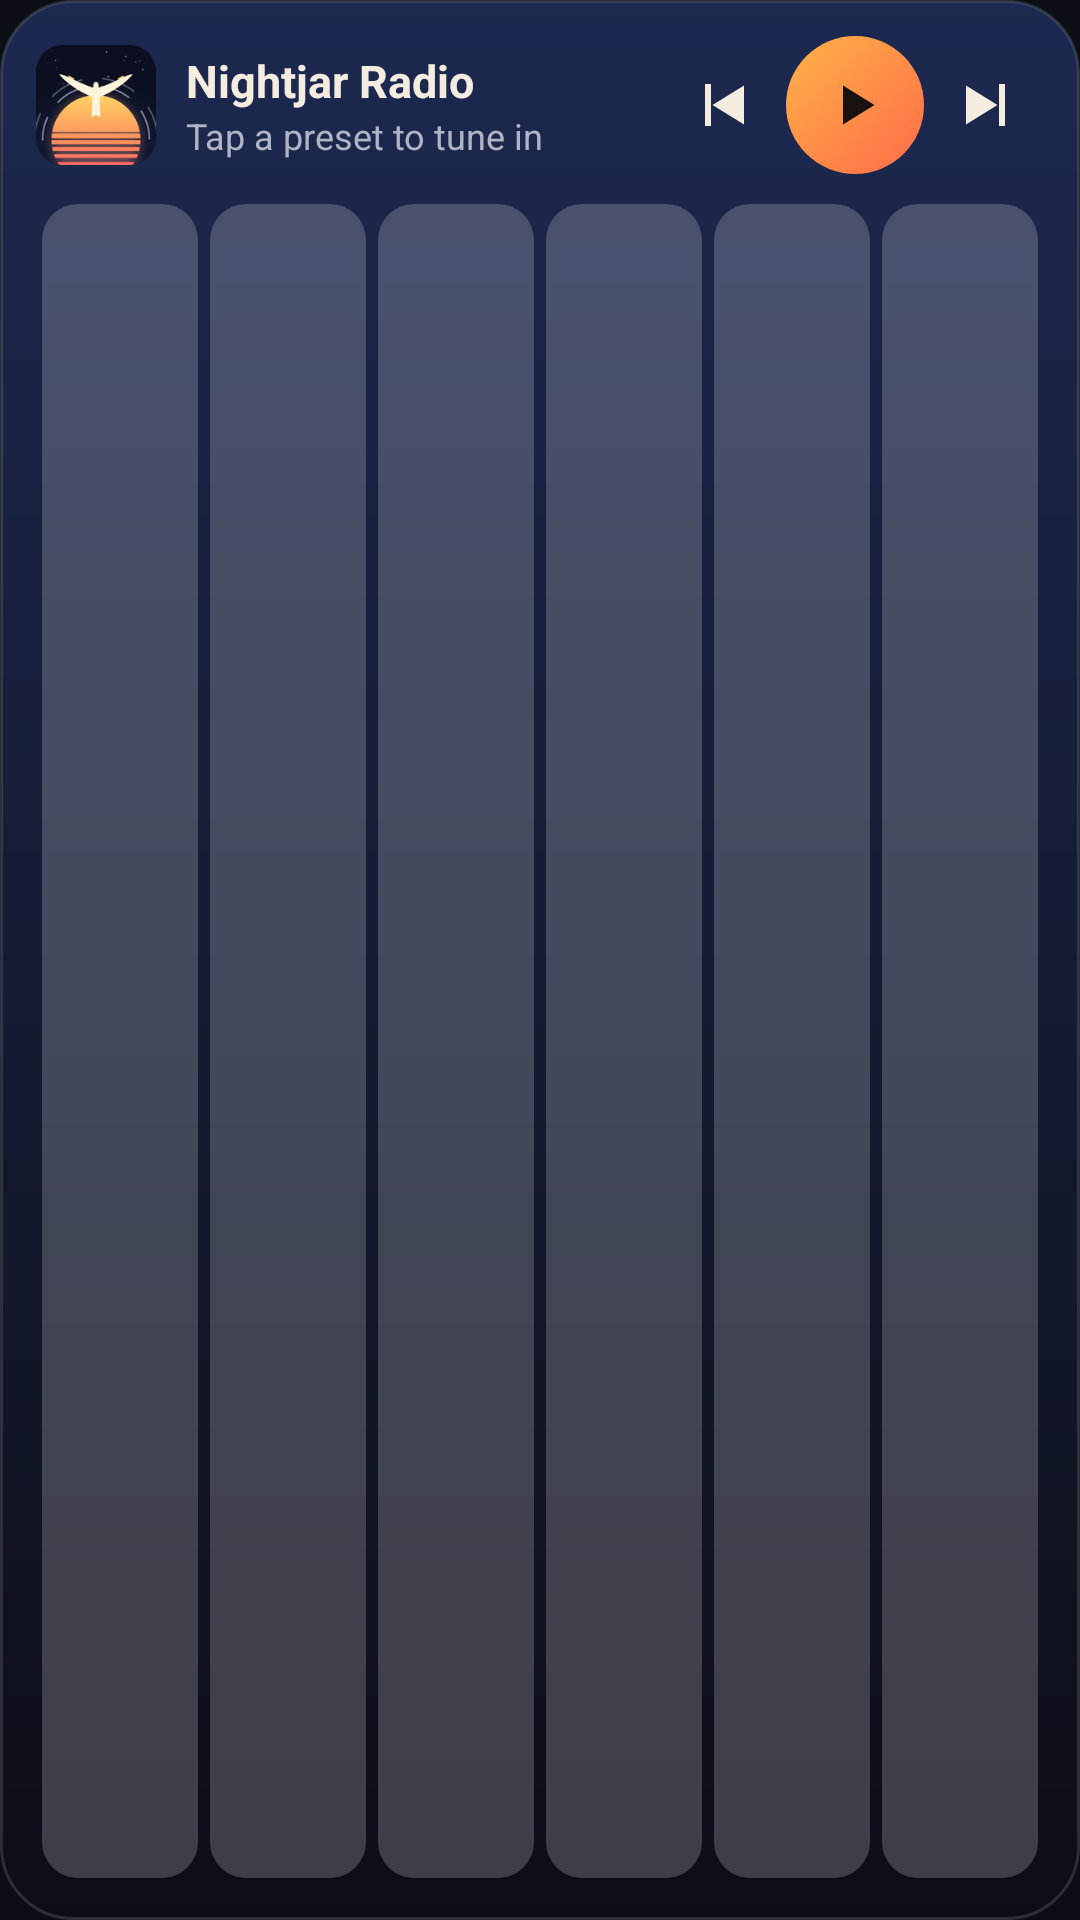

Where icons sit on this 1080*1920 app screen, as (x1, y1, x2, y2):
Next station: (966, 84, 1005, 126)
Play or pause: (786, 36, 924, 174)
Previous station: (705, 84, 744, 126)
